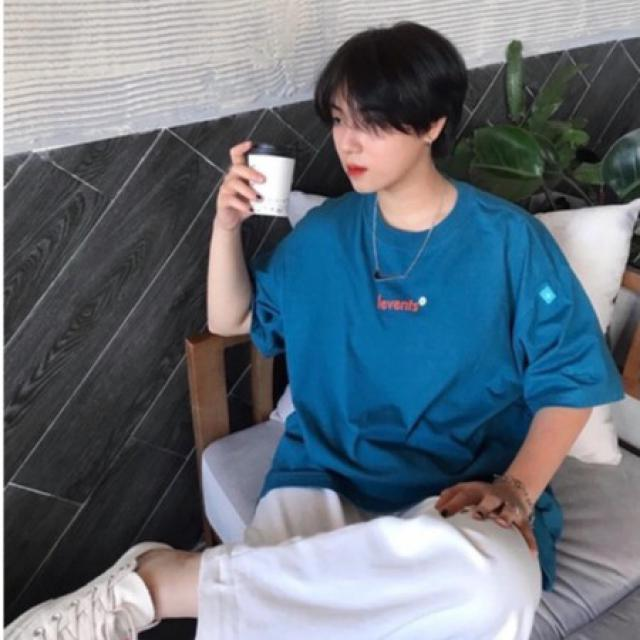Shirt: (247, 171, 633, 596)
